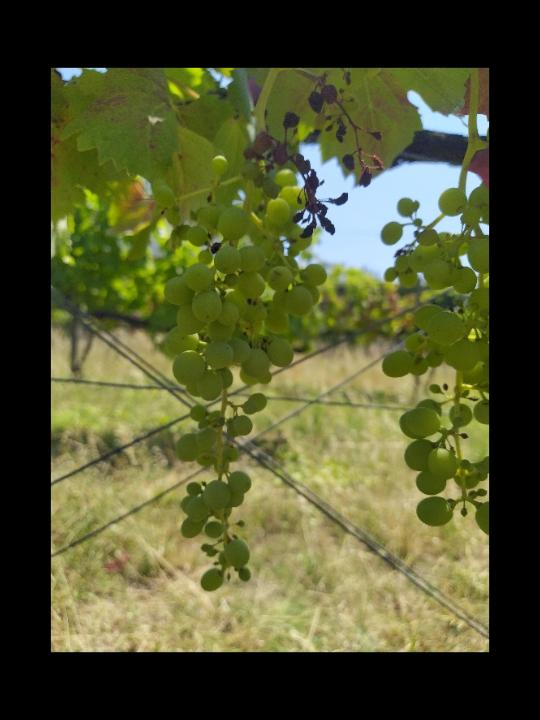grape: (145, 153, 332, 599), (239, 75, 390, 240)
